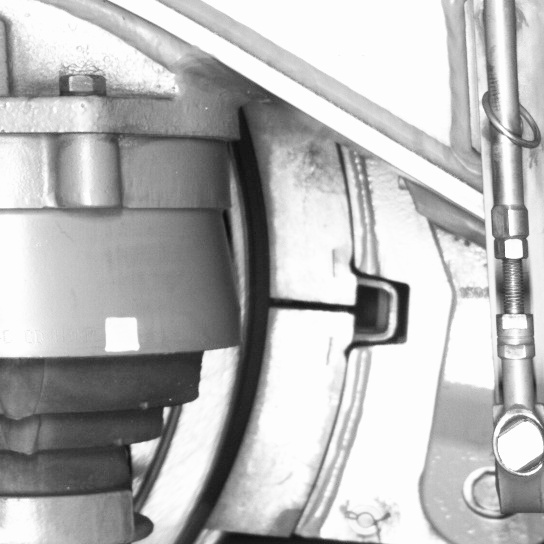KnifeSwitch: (168, 137, 381, 541)
